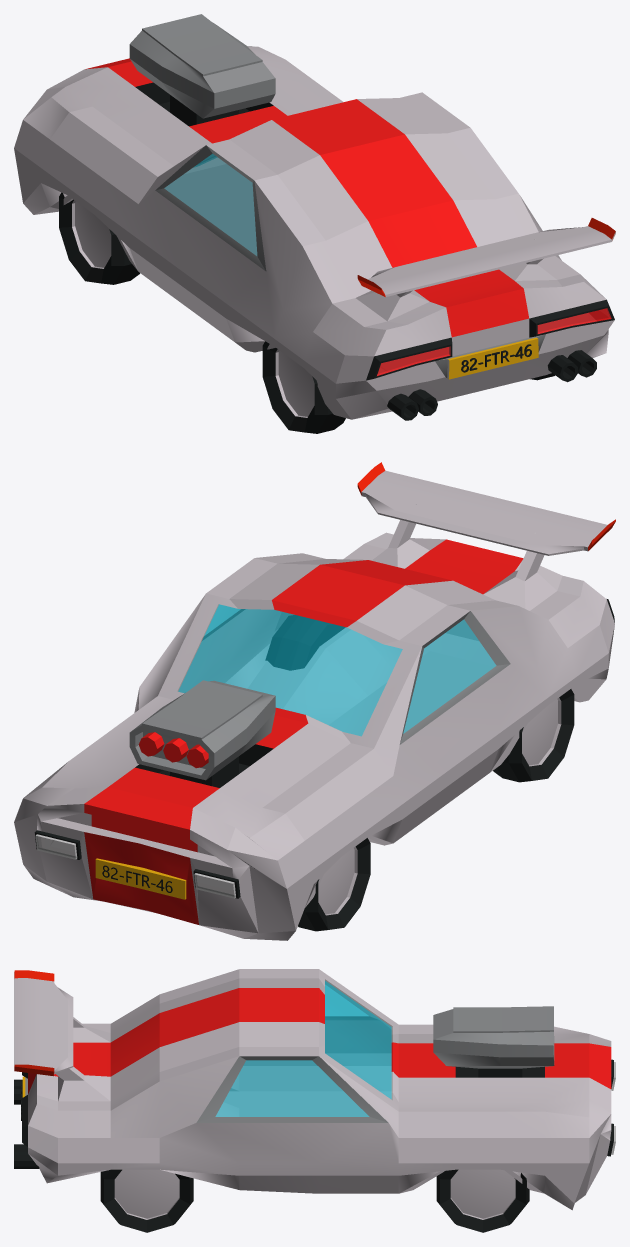
File: car2_rotated.FBX
3 views of the same model, one above another, from view 1: azimuth 30°, elevation 25°; view 2: azimuth 150°, elevation 25°; view 3: azimuth 270°, elevation 25° (orthographic). The views are drawn at different scales.
Visible parts, largest first — view 1: car; view 2: car; view 3: car.
Boxes of the visible parts, bbox=[...] form: car: bbox=[14, 14, 615, 433]; car: bbox=[14, 462, 615, 940]; car: bbox=[14, 969, 615, 1232].
Bounding box in the file's own units: 214 × 163 × 496.
